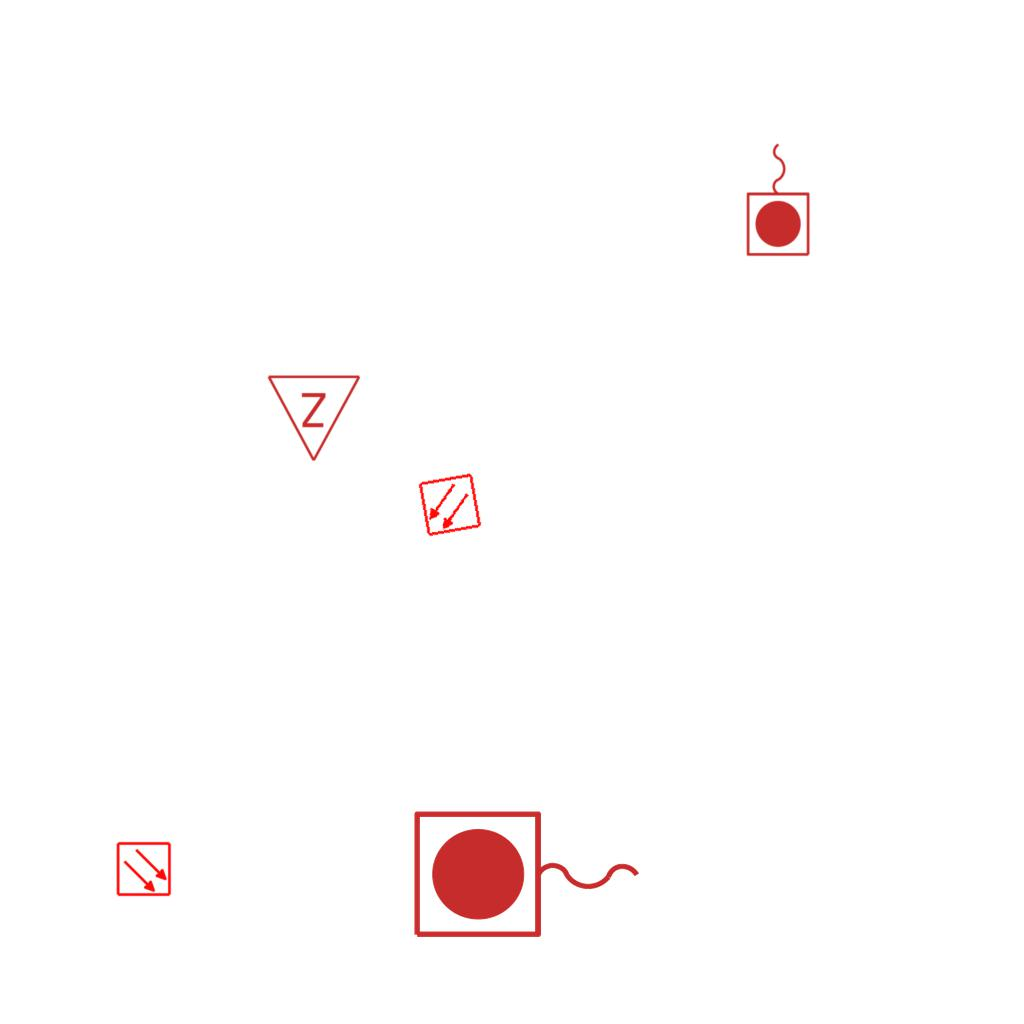RMO_Rauchmelder_optischer: (417, 472, 483, 538), (116, 841, 172, 897)
Zimmersignalleuchte: (266, 368, 364, 468)
Zugtaster: (406, 804, 650, 948), (743, 138, 815, 260)
